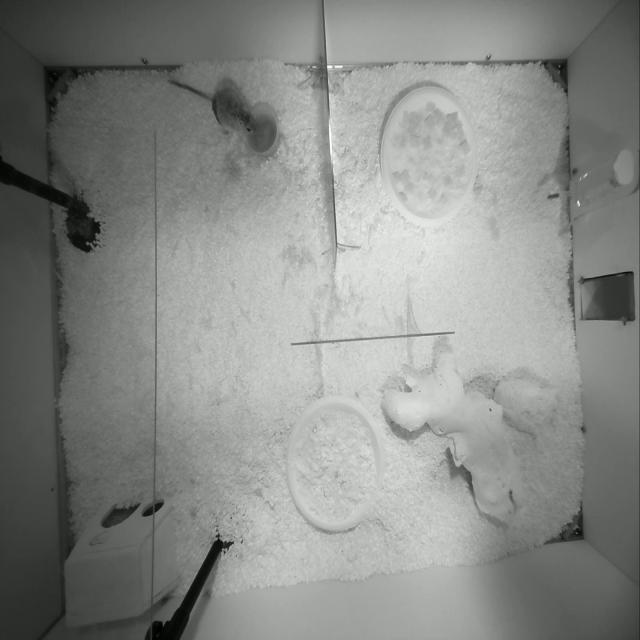adult_back: (170, 80, 257, 134)
